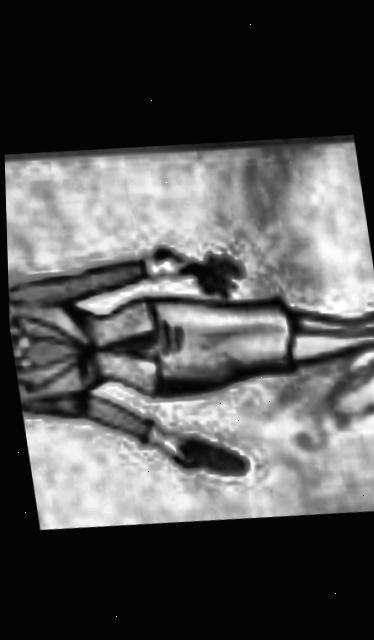La Dama: (3, 117, 374, 543)
